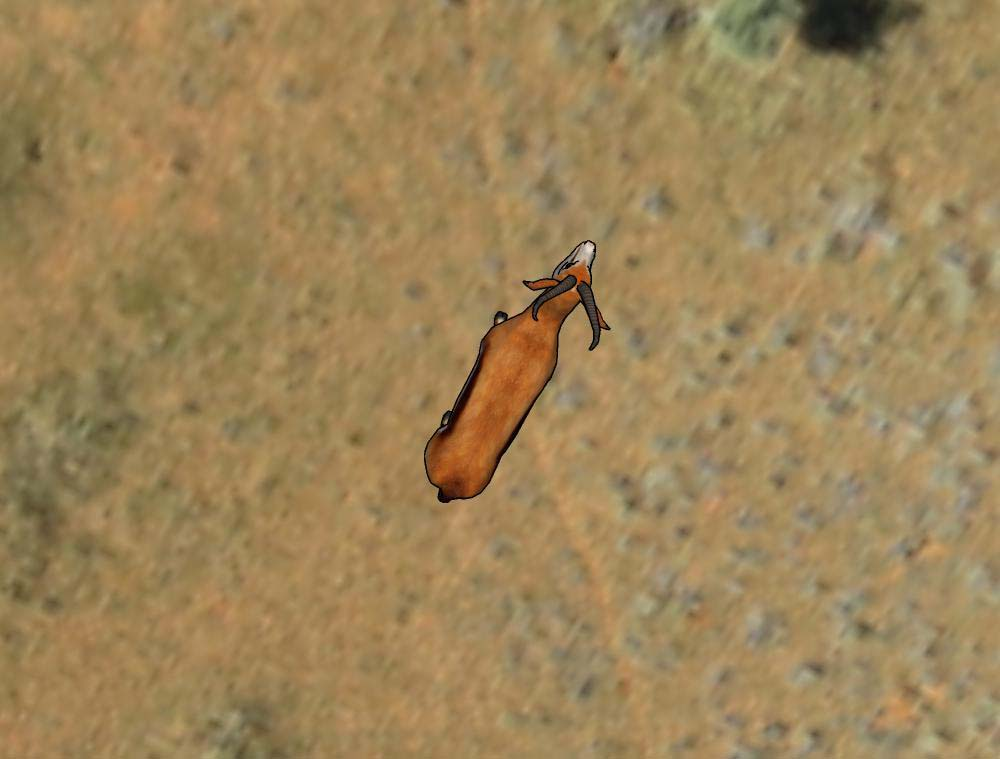springbok: (417, 238, 613, 512)
